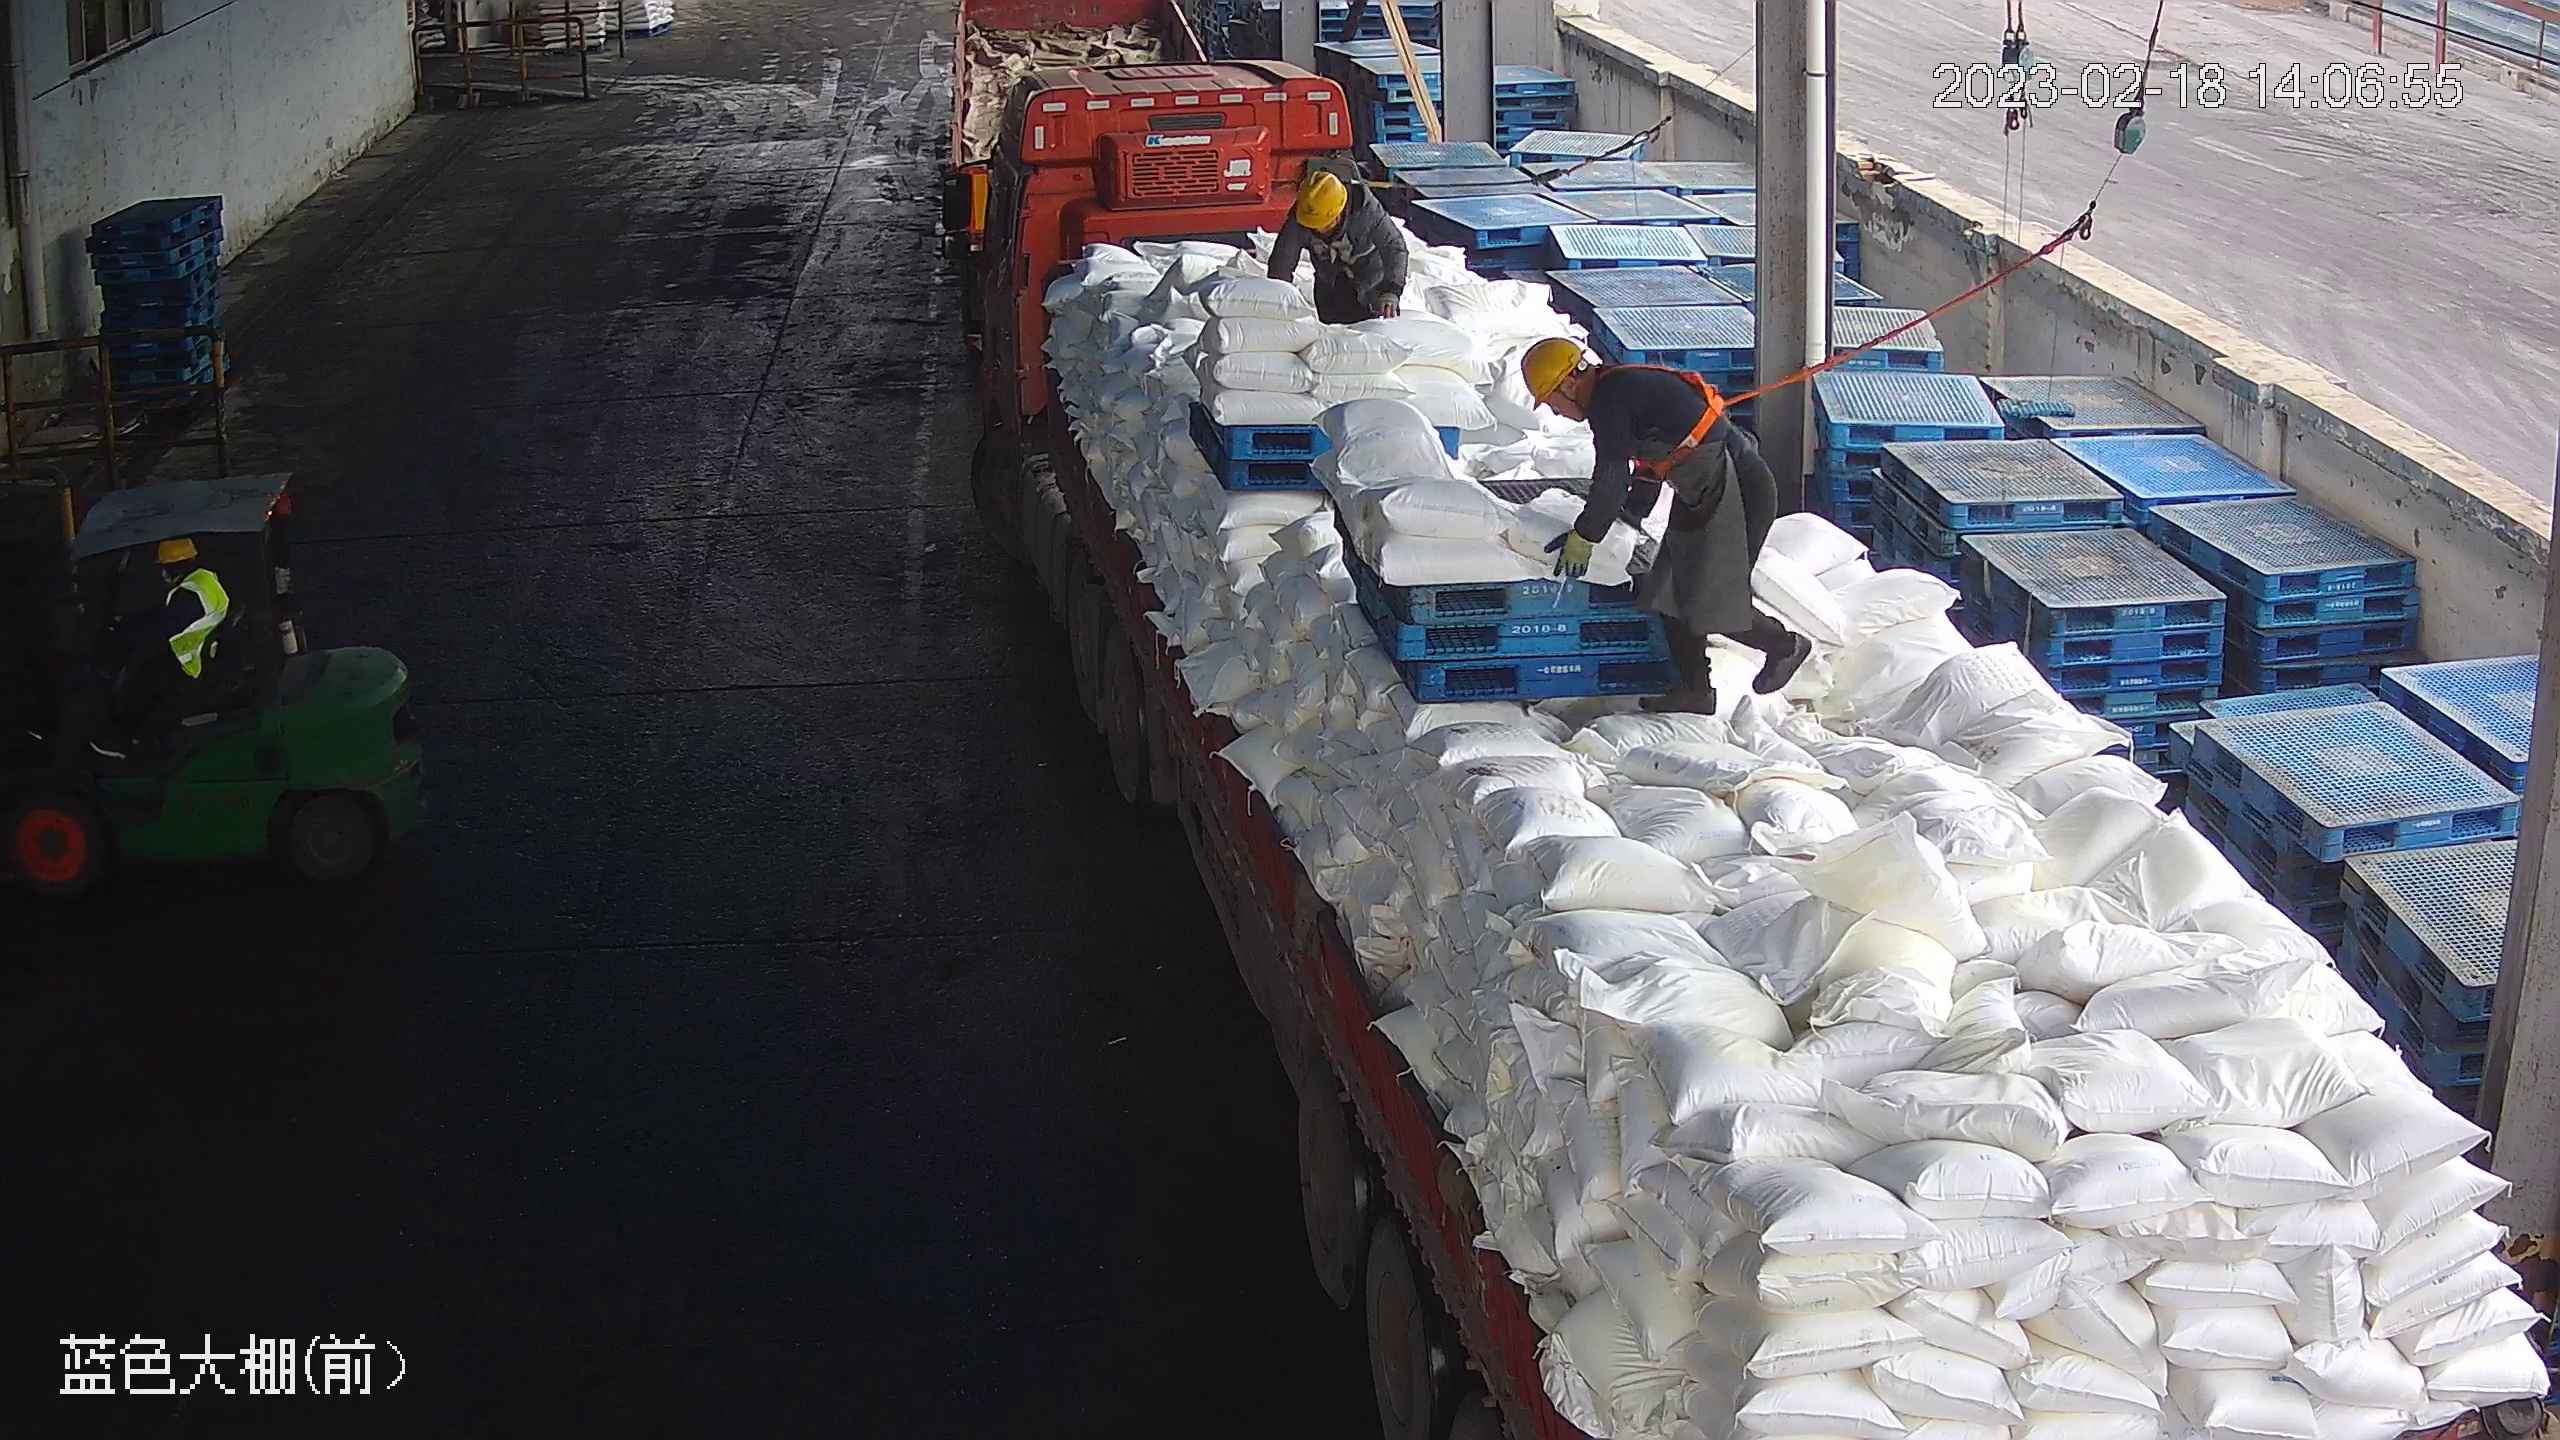belt: (1600, 350, 1781, 474), (1312, 168, 1390, 267)
head: (1515, 344, 1679, 467), (1278, 172, 1391, 256), (129, 535, 230, 622)
helmet: (1515, 337, 1588, 408), (1295, 169, 1345, 232), (152, 532, 201, 564)
people: (1518, 339, 1812, 718), (73, 535, 230, 764), (1266, 169, 1412, 322)
truck: (935, 54, 2560, 1440)
